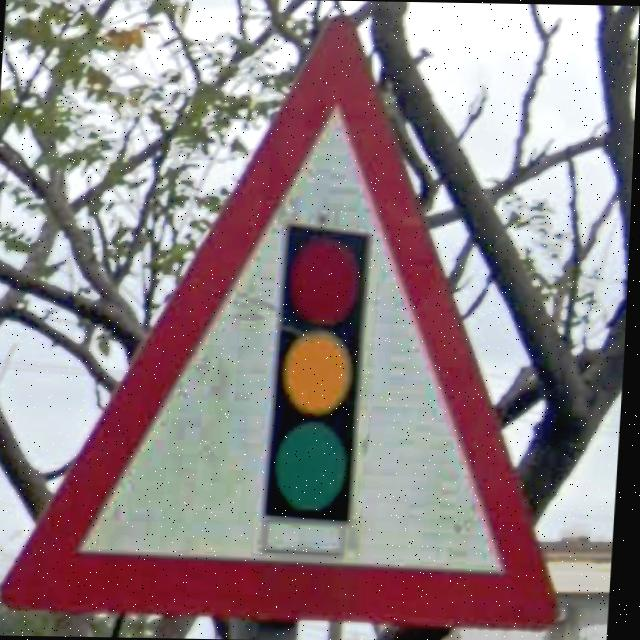signalahead: (4, 16, 568, 629)
